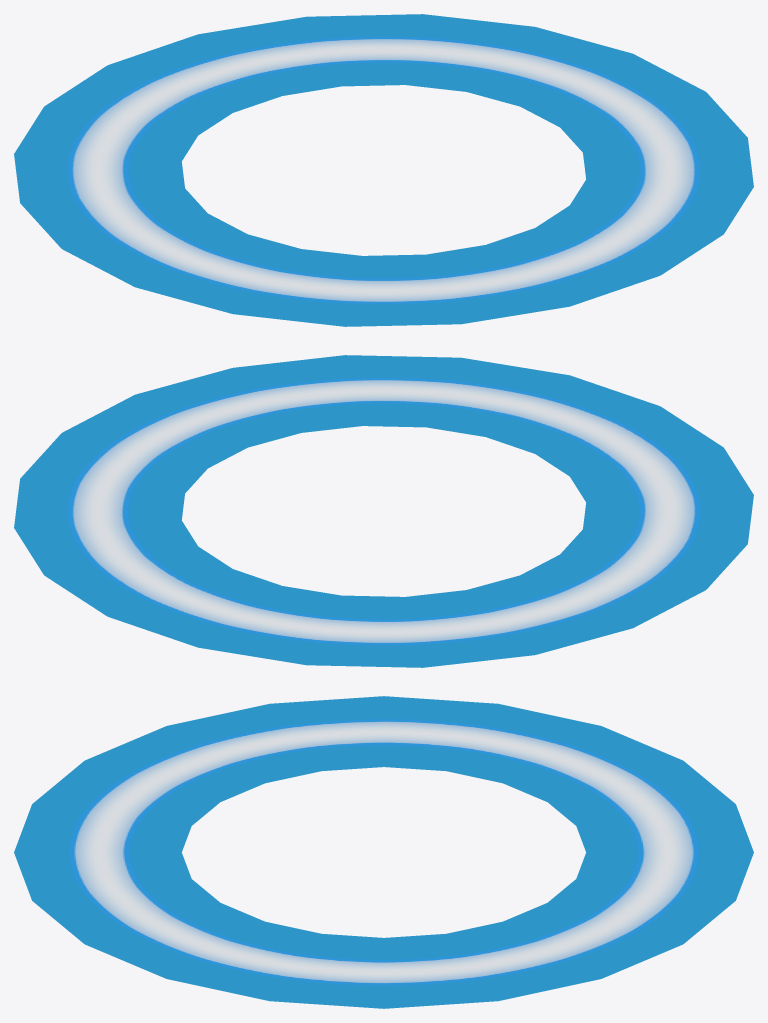
File: WaveEffect_mesh.fbx
3 renders of one model, top to bottom at view 1: azimuth 30°, elevation 25°; view 2: azimuth 150°, elevation 25°; view 3: azimuth 270°, elevation 25°, orthographic.
Visible parts, largest first — view 1: WaveEffect_mesh; view 2: WaveEffect_mesh; view 3: WaveEffect_mesh.
Boxes of the visible parts, x1=… form: WaveEffect_mesh: x1=14, y1=14, x2=753, y2=326; WaveEffect_mesh: x1=14, y1=355, x2=753, y2=667; WaveEffect_mesh: x1=14, y1=696, x2=753, y2=1008.
Bounding box in the file's own units: 1.13 × 0 × 1.13.
